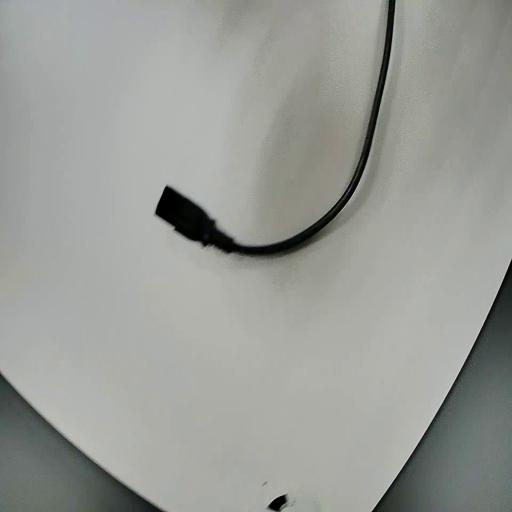wire: (156, 0, 394, 255)
